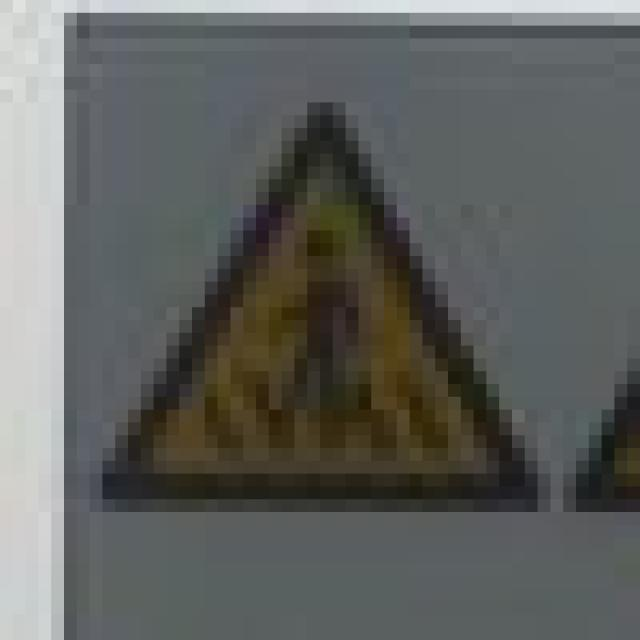pass_either_side: (77, 77, 550, 512)
